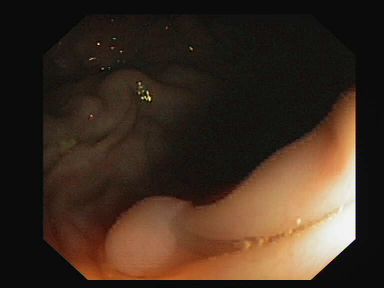polyp: (103, 197, 194, 275)
